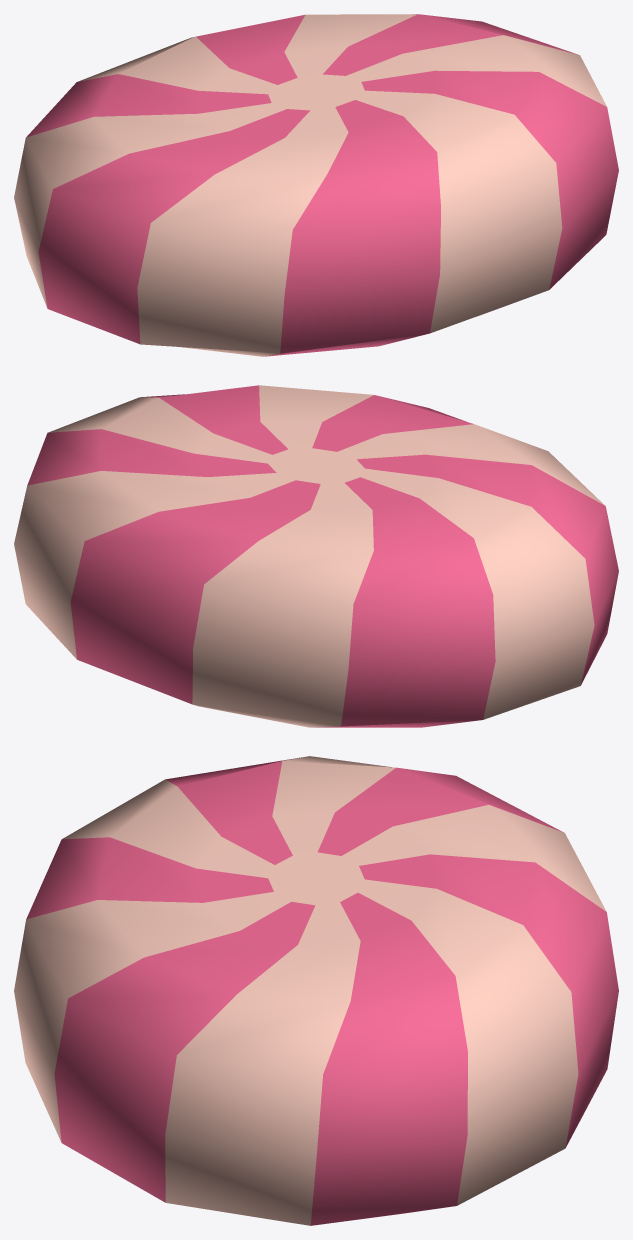
File: candy_assets37.fbx
The picture shows the model from 3 angles, top to bottom: view 1: azimuth 30°, elevation 25°; view 2: azimuth 150°, elevation 25°; view 3: azimuth 270°, elevation 25°; orthographic projection. The views are drawn at different scales.
Parts seen in each view (by area): view 1: candy_assets37; view 2: candy_assets37; view 3: candy_assets37.
Boxes of the visible parts, <box> form: candy_assets37: <box>14,14,618,356</box>; candy_assets37: <box>14,385,618,727</box>; candy_assets37: <box>14,756,618,1225</box>.
Size of the model in its own units: 397 by 125 by 306.
Materials: 1 (1 with a texture image).
